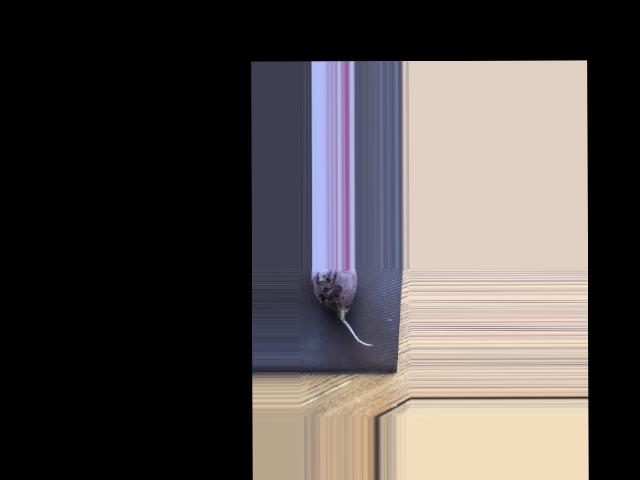beet: (311, 269, 372, 346)
